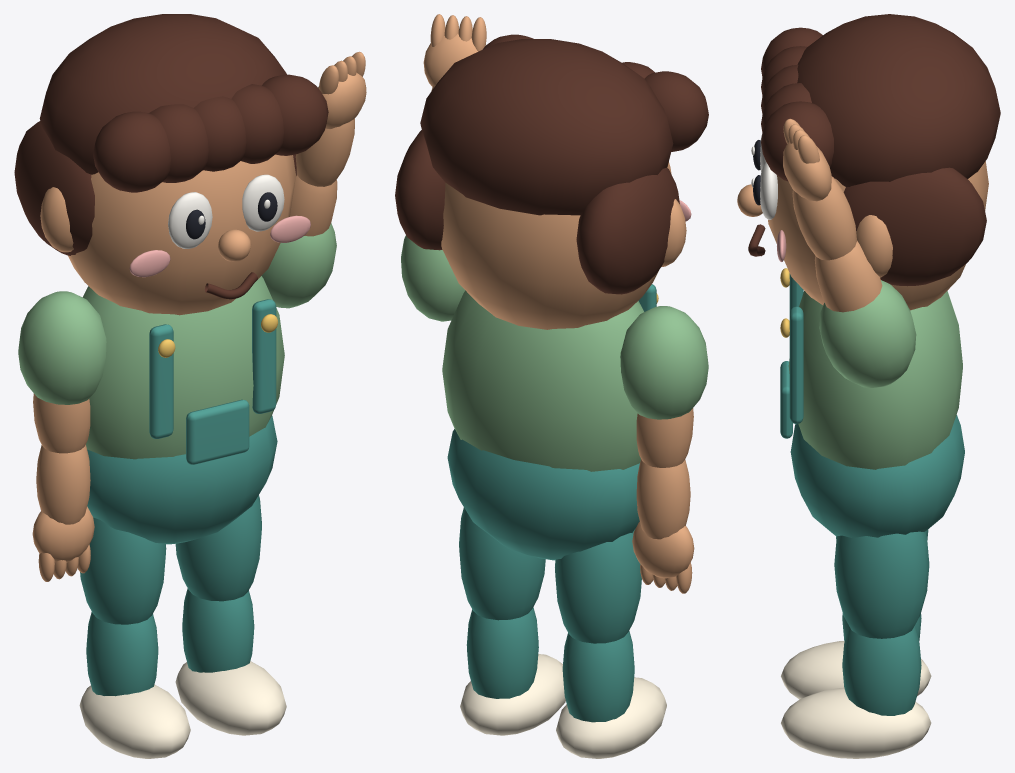
File: daddy-wave.glb
3 views of the same model, side by side, from view 1: azimuth 30°, elevation 25°; view 2: azimuth 150°, elevation 25°; view 3: azimuth 270°, elevation 25° (orthographic).
Visible parts, largest first — view 1: hair cap, clay head, soft shirt, overalls, shirt sleeve, trouser leg, little shoe.001, little shoe, bob hair, trouser leg.001, fringe, lower leg (+22 smaller); view 2: hair cap, soft shirt, clay head, overalls, bob hair, shirt sleeve, trouser leg, trouser leg.001, lower leg, lower leg.001, little shoe, little shoe.001 (+8 smaller); view 3: hair cap, soft shirt, overalls, bob hair.001, trouser leg.001, little shoe.001, shirt sleeve.001, lower leg.001, clay head, forearm.001, upper arm.001, little shoe (+12 smaller).
Part boxes in pixels (box(x1,y1,x2,y2)): hair cap: box(39, 14, 286, 174); clay head: box(68, 154, 295, 315); soft shirt: box(82, 276, 284, 459); overalls: box(87, 415, 277, 544); shirt sleeve: box(18, 291, 106, 404); trouser leg: box(80, 517, 166, 624); little shoe.001: box(175, 661, 286, 735); little shoe: box(79, 684, 190, 758); bob hair: box(14, 121, 94, 255); trouser leg.001: box(175, 495, 261, 601); fringe: box(93, 111, 170, 192); lower leg: box(86, 612, 158, 696); hair cap: box(420, 39, 673, 215); soft shirt: box(442, 290, 643, 471); clay head: box(441, 162, 671, 329); overalls: box(447, 429, 639, 560); bob hair: box(576, 167, 679, 294); shirt sleeve: box(620, 306, 708, 419); trouser leg: box(555, 529, 641, 643); trouser leg.001: box(459, 507, 545, 620); lower leg: box(562, 631, 634, 722); lower leg.001: box(466, 607, 538, 698); little shoe: box(556, 677, 666, 758); little shoe.001: box(460, 654, 565, 735); hair cap: box(797, 14, 1000, 186); soft shirt: box(788, 291, 962, 469); overalls: box(790, 415, 964, 537); bob hair.001: box(843, 167, 986, 286); trouser leg.001: box(834, 531, 929, 638); little shoe.001: box(781, 687, 931, 758); shirt sleeve.001: box(819, 280, 916, 387); lower leg.001: box(842, 626, 921, 715); clay head: box(766, 161, 988, 310); forearm.001: box(792, 176, 856, 260); upper arm.001: box(814, 240, 882, 312); little shoe: box(781, 641, 931, 699).
Bounding box in the file's own units: 0.9886 × 2.14 × 0.7315.
